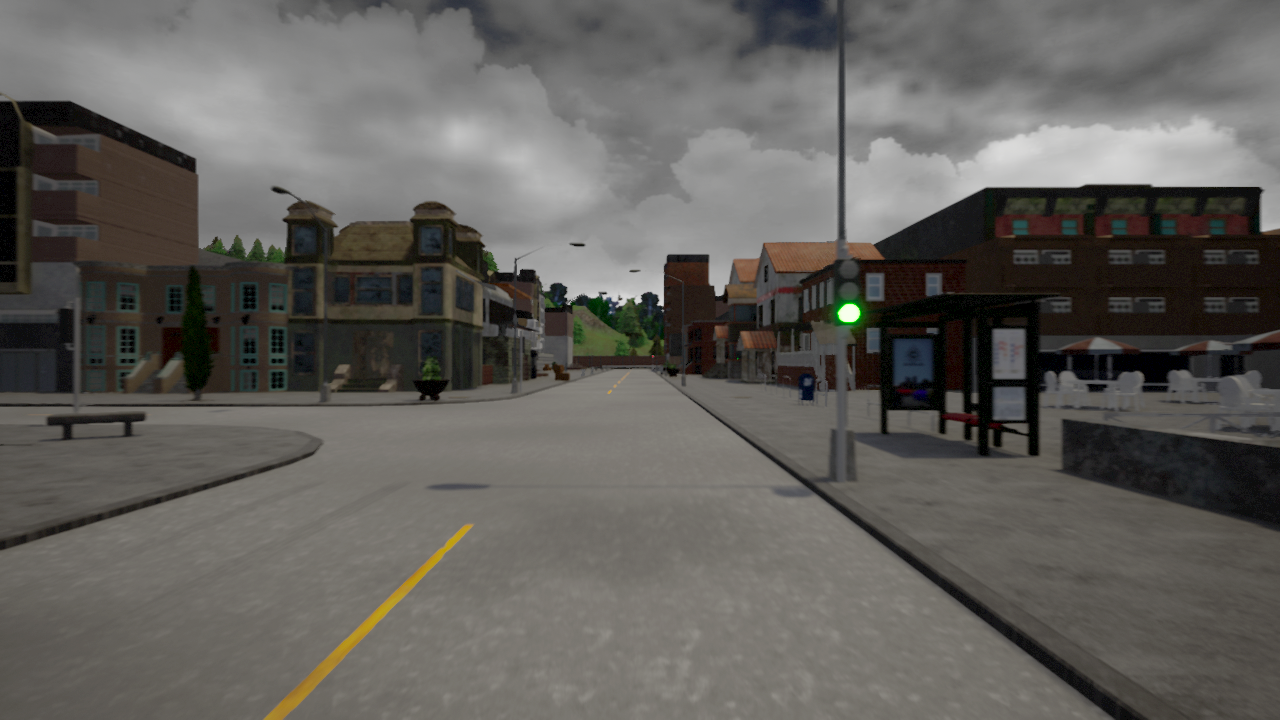green: (832, 255, 864, 326)
